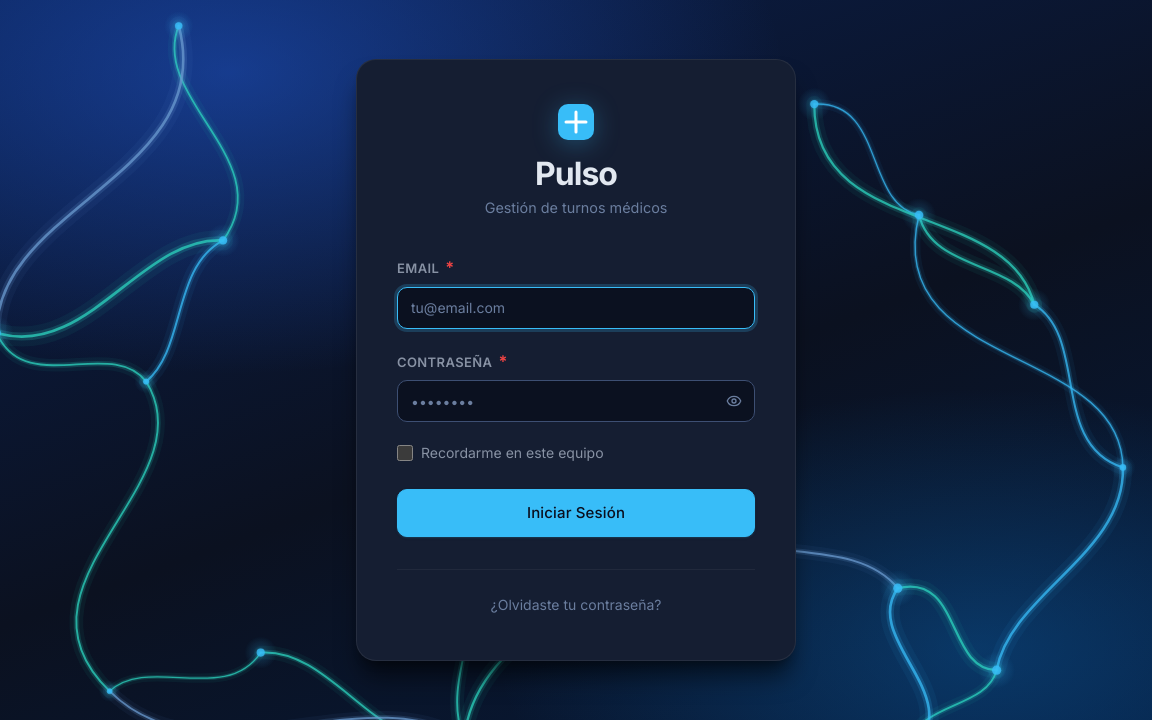
it: LoginPage — qué le dice al que no puede entrar › sin motivo del servidor cae al mensaje de siempre
In the field labelled "Email": {"x": 576, "y": 308} [397,286,755,328], type "admin@h.com"
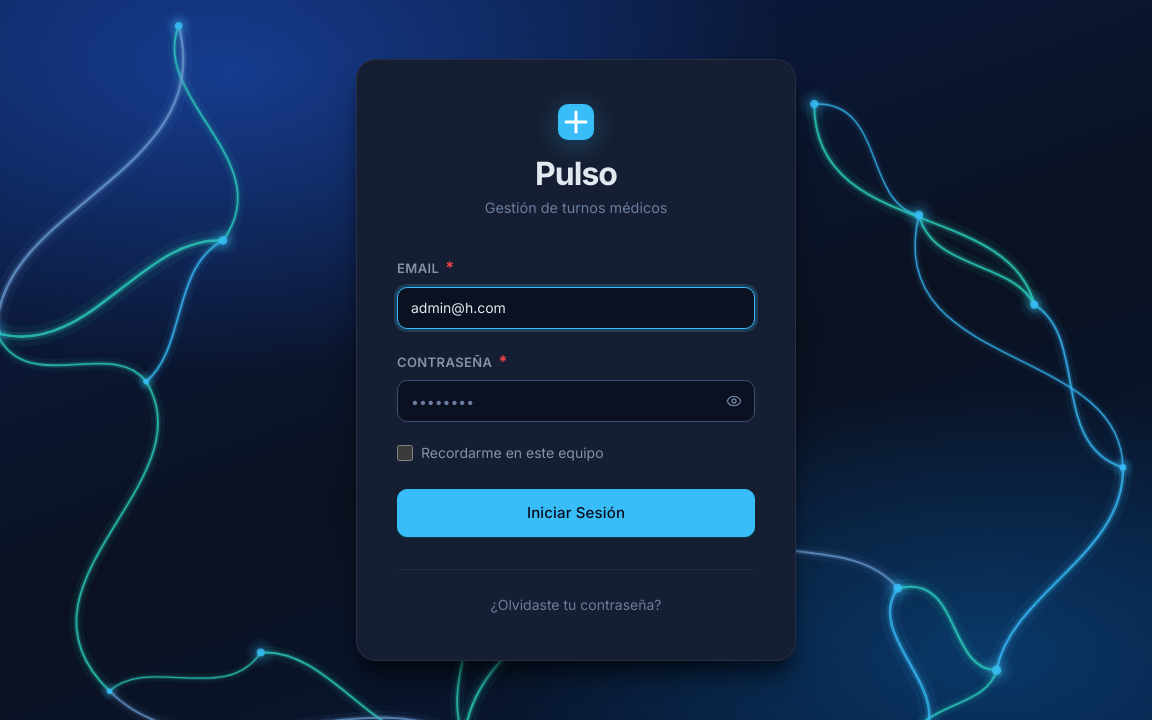
In the password field labelled "Contraseña": {"x": 576, "y": 401} [397,380,755,422], type "Admin1234"
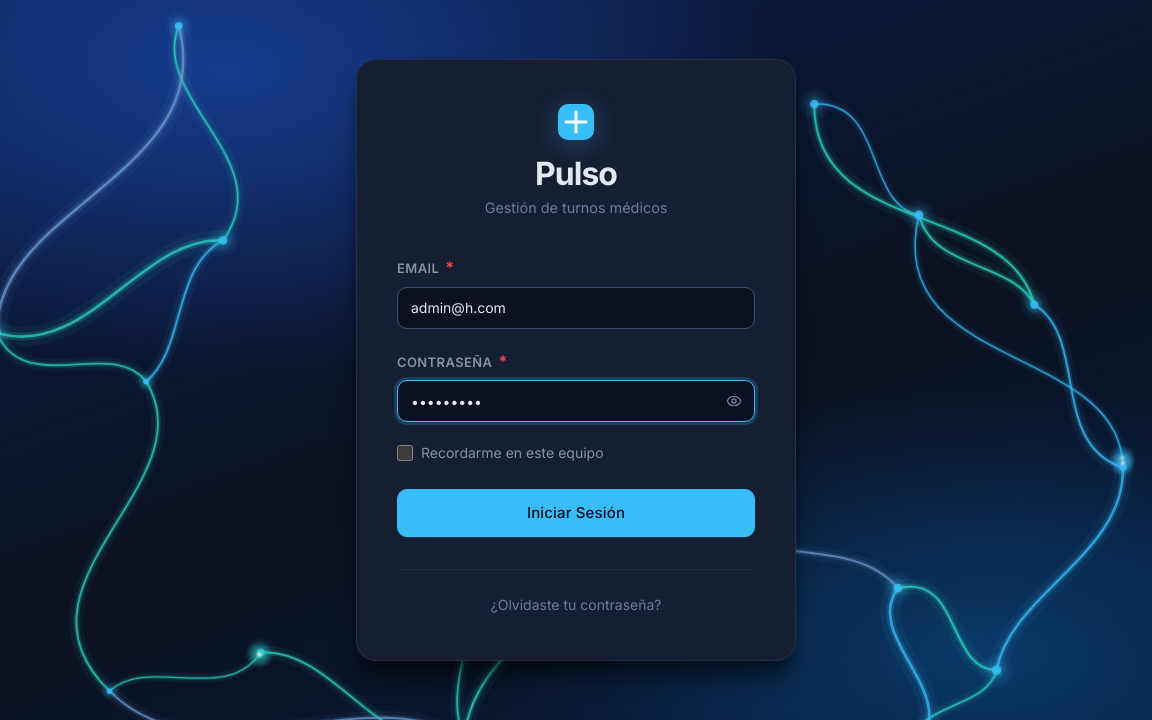
Click the button "Iniciar Sesión": {"x": 576, "y": 512} [397,488,755,536]
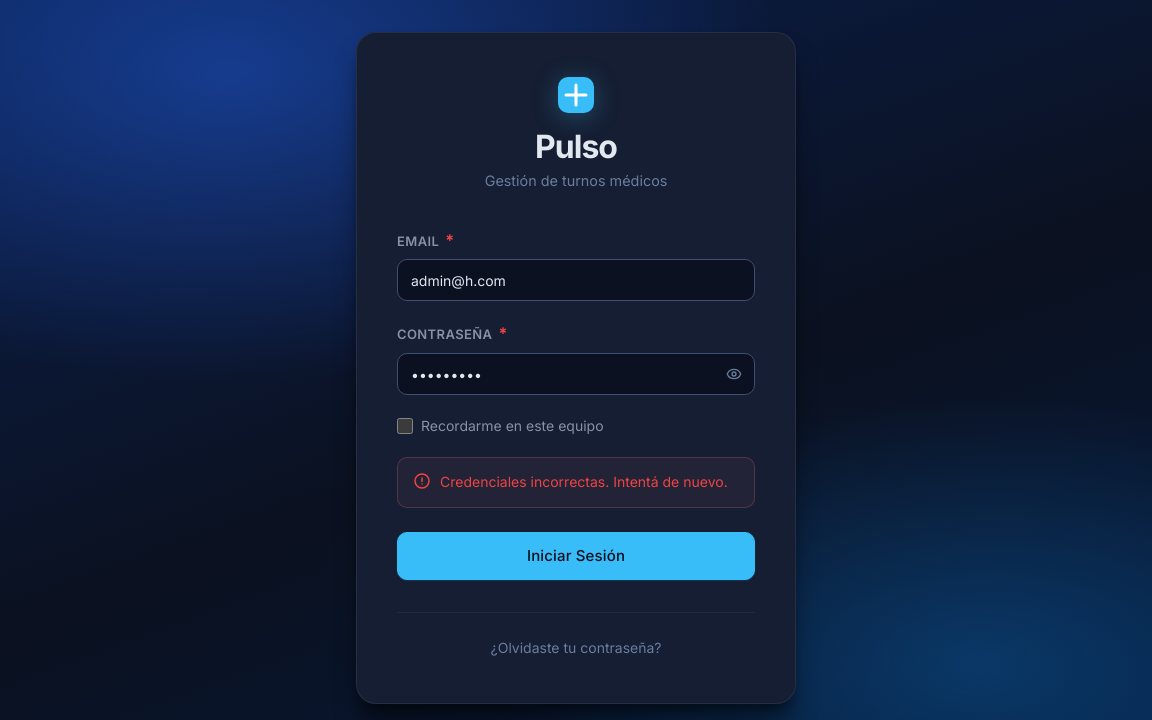
Now the text "Credenciales incorrectas. Intentá de nuevo." is shown, box [397,458,755,508]
